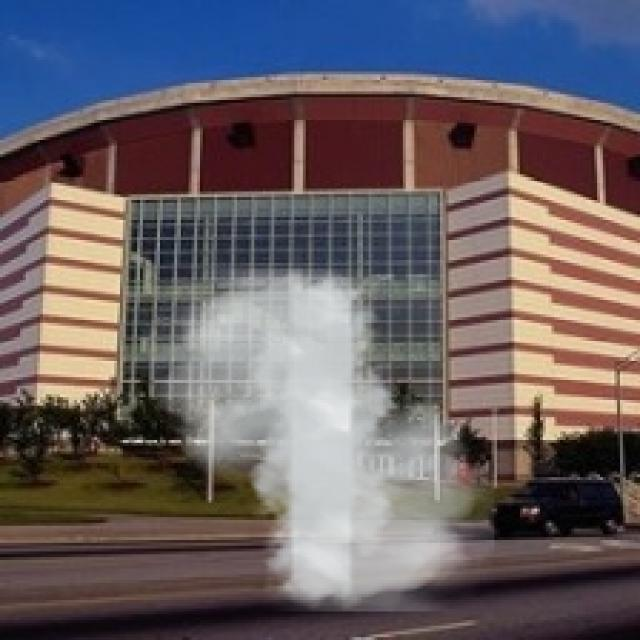smoke: (149, 268, 494, 612)
